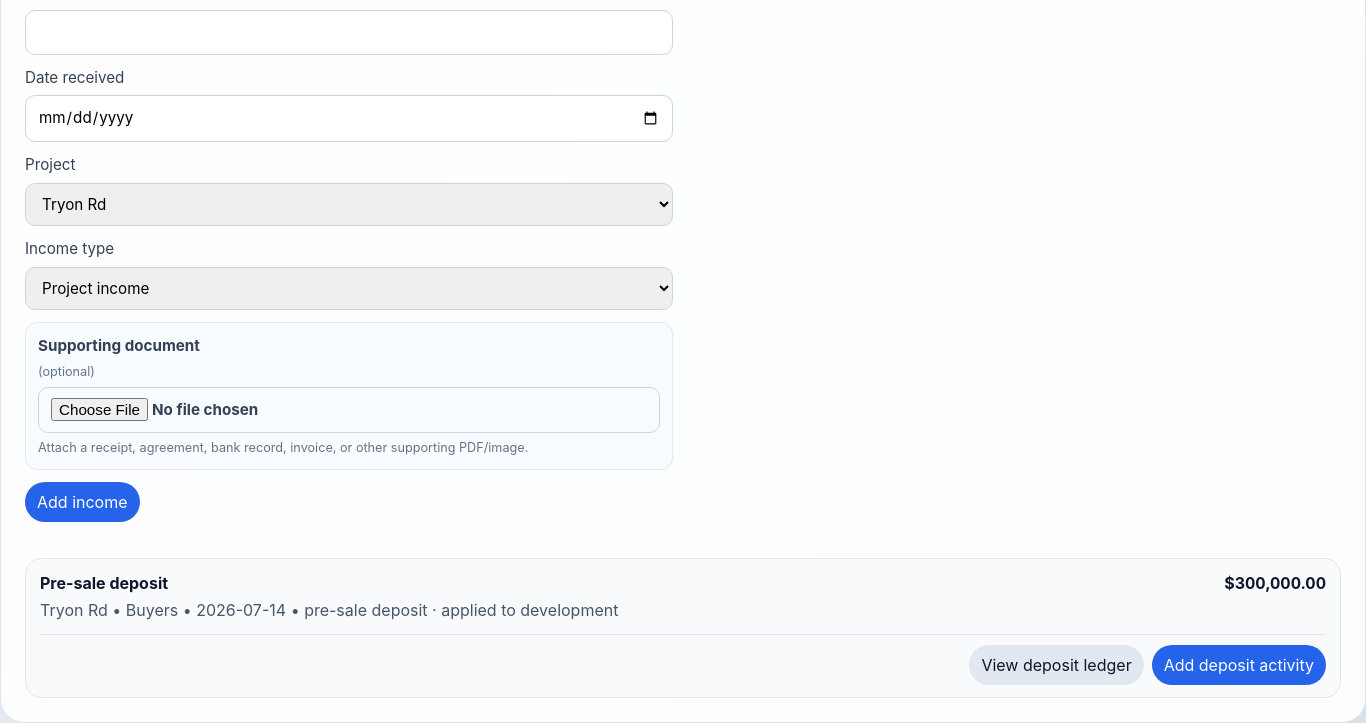
Test case: IncomeSection › distinguishes direct bank matches from probable statement matches
The width and height of the screenshot is (1366, 723).
(page scrolled)
Click the button "View deposit ledger" at (1057, 665), box [969,645,1144,685]
(page scrolled)
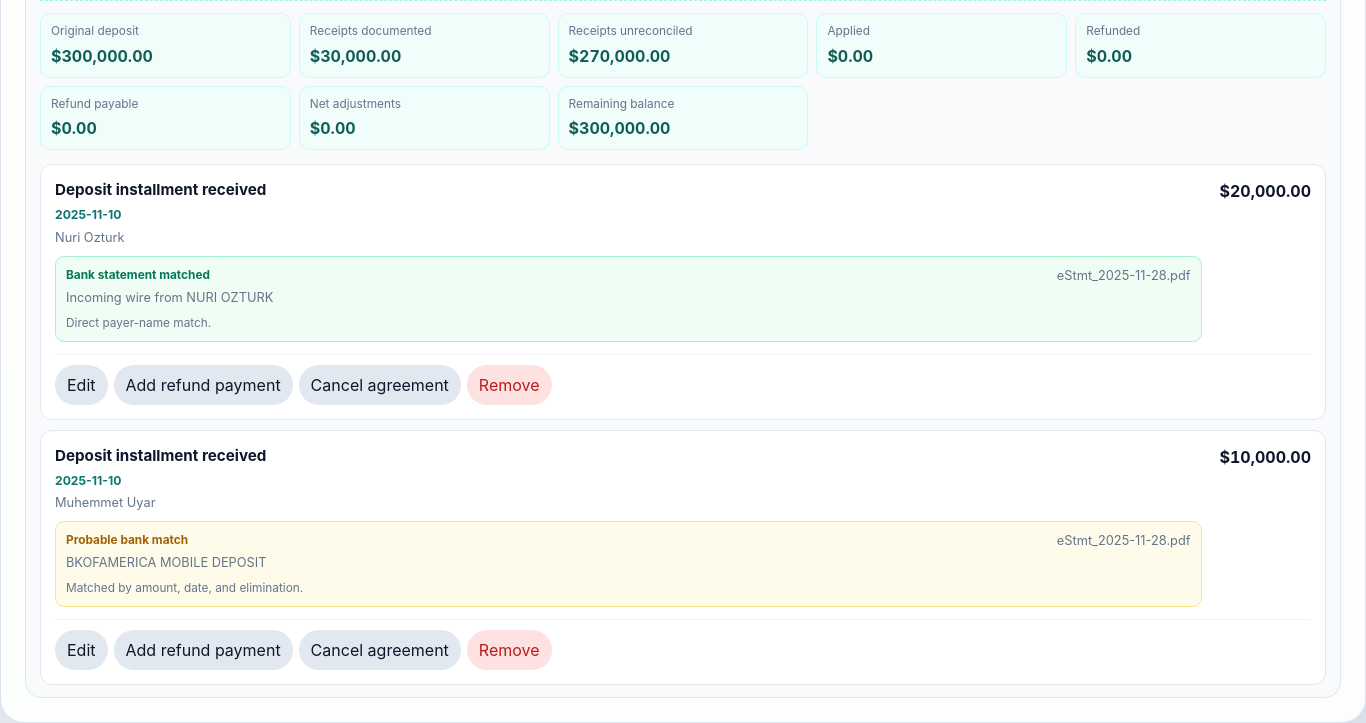
Now the text "Bank statement matched" is shown, box [66,267,210,285]
Now the text "Probable bank match" is shown, box [66,532,188,550]
Now the text "Incoming wire from NURI OZTURK" is shown, box [66,290,273,305]
